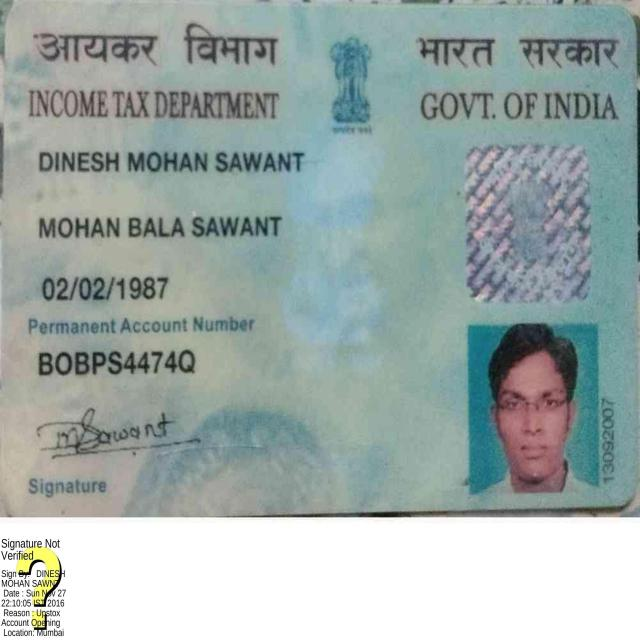pan_card: (7, 6, 630, 517)
